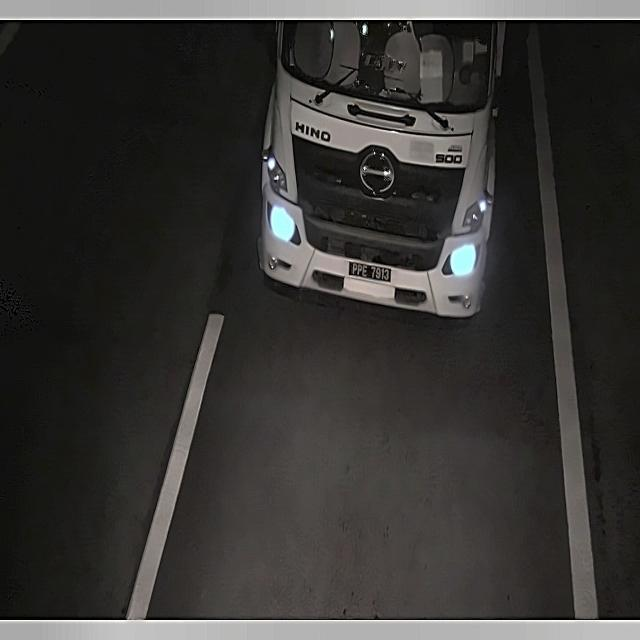car: (343, 251, 396, 293)
